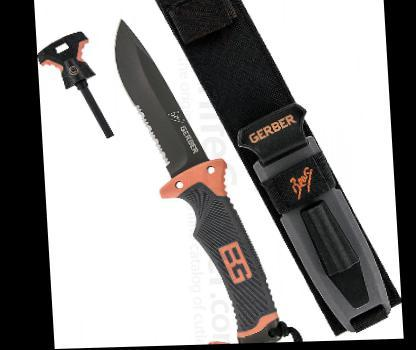knife: (104, 12, 205, 182)
